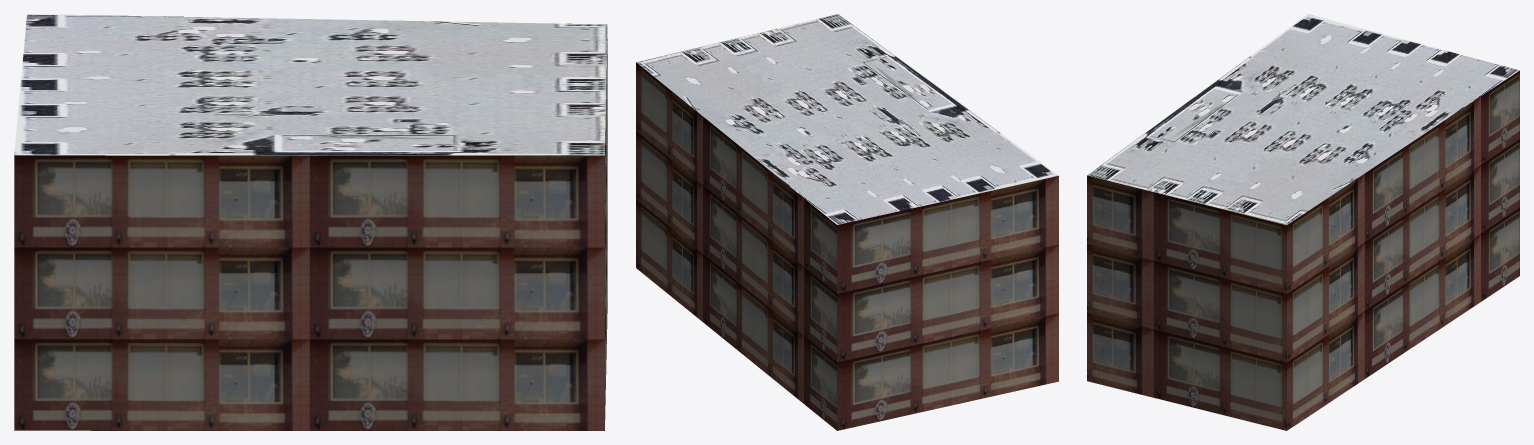
File: ResTex__4034.fbx
3 renders of one model, left to right at view 1: azimuth 30°, elevation 25°; view 2: azimuth 150°, elevation 25°; view 3: azimuth 270°, elevation 25°, orthographic. The views are drawn at different scales.
Visible parts, largest first — view 1: CityEngineMaterial_13_m, CityEngineMaterial_4_m; view 2: CityEngineMaterial_13_m, CityEngineMaterial_4_m; view 3: CityEngineMaterial_13_m, CityEngineMaterial_4_m.
Part boxes in pixels (bbox=[...]): CityEngineMaterial_13_m: bbox=[14, 39, 607, 430]; CityEngineMaterial_4_m: bbox=[14, 14, 607, 155]; CityEngineMaterial_13_m: bbox=[636, 62, 1058, 430]; CityEngineMaterial_4_m: bbox=[636, 14, 1058, 224]; CityEngineMaterial_13_m: bbox=[1087, 70, 1519, 430]; CityEngineMaterial_4_m: bbox=[1087, 14, 1519, 225].
Size of the model in its own units: 19.82 by 9 by 17.16.
2 materials, 2 textured.
